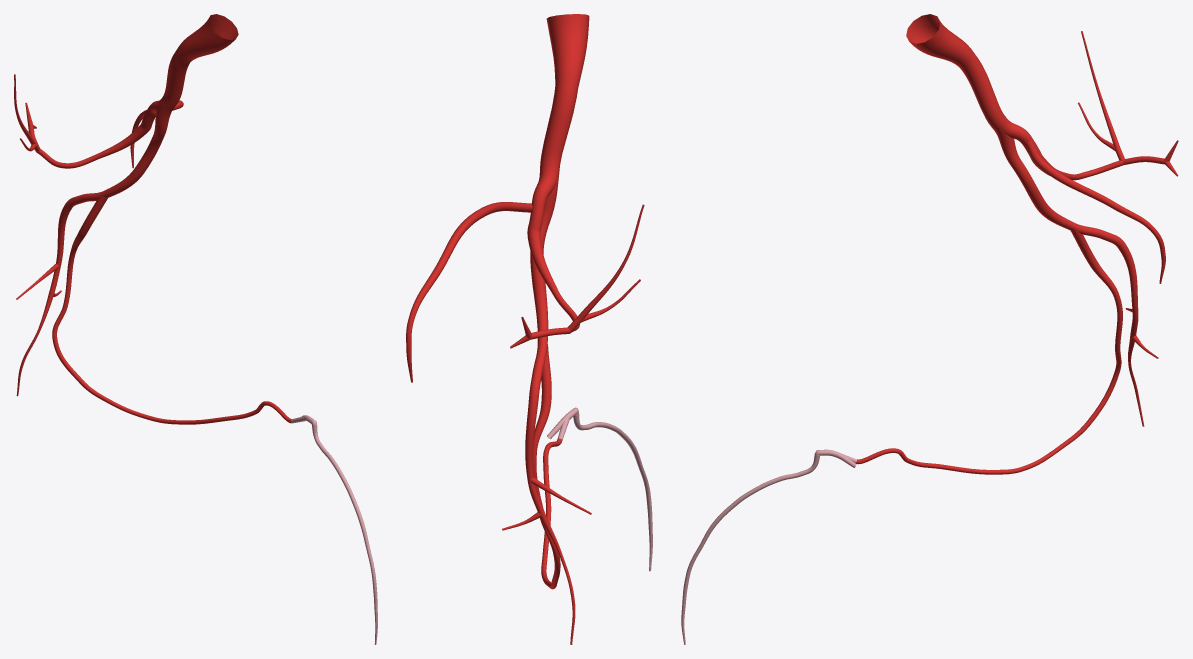
File: circulatorio-internal-iliac-vein-r.glb
The picture shows the model from 3 angles, left to right: view 1: azimuth 30°, elevation 25°; view 2: azimuth 150°, elevation 25°; view 3: azimuth 270°, elevation 25°; orthographic projection. The views are drawn at different scales.
Visible parts, largest first — view 1: Inferior gluteal veins.r, Internal iliac vein.r, Internal pudendal vein.r, Superior gluteal veins.r, Deep dorsal vein of penis; view 2: Internal iliac vein.r, Inferior gluteal veins.r, Superior gluteal veins.r, Internal pudendal vein.r, Lateral sacral veins.r, Deep dorsal vein of penis; view 3: Internal iliac vein.r, Inferior gluteal veins.r, Internal pudendal vein.r, Superior gluteal veins.r, Deep dorsal vein of penis, Lateral sacral veins.r.
Part boxes in pixels (box(x1,y1,x2,y2)): Inferior gluteal veins.r: box(16, 98, 173, 396); Internal iliac vein.r: box(162, 14, 238, 107); Internal pudendal vein.r: box(52, 195, 291, 424); Superior gluteal veins.r: box(14, 74, 173, 168); Deep dorsal vein of penis: box(290, 415, 377, 644); Internal iliac vein.r: box(540, 14, 589, 169); Inferior gluteal veins.r: box(502, 167, 591, 644); Superior gluteal veins.r: box(510, 167, 644, 348); Internal pudendal vein.r: box(532, 343, 562, 589); Lateral sacral veins.r: box(406, 202, 532, 382); Deep dorsal vein of penis: box(547, 407, 652, 571); Internal iliac vein.r: box(906, 14, 1005, 128); Inferior gluteal veins.r: box(992, 121, 1158, 426); Internal pudendal vein.r: box(856, 228, 1122, 474); Superior gluteal veins.r: box(994, 31, 1178, 180); Deep dorsal vein of penis: box(681, 449, 856, 644); Lateral sacral veins.r: box(1025, 141, 1165, 283).
Size of the model in its own units: 0.0784 by 0.2255 by 0.1687.
